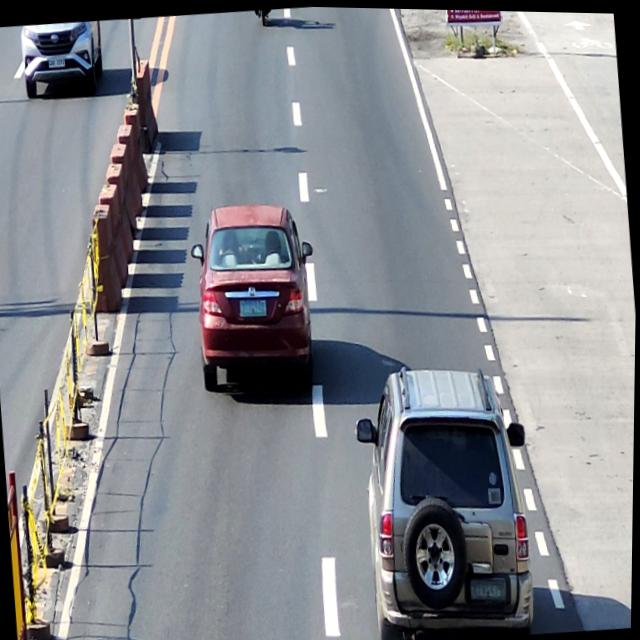Car: (349, 353, 543, 640), (185, 195, 326, 395), (18, 18, 106, 100)
License-Plate: (473, 574, 509, 602), (240, 296, 267, 316), (48, 55, 66, 67)
